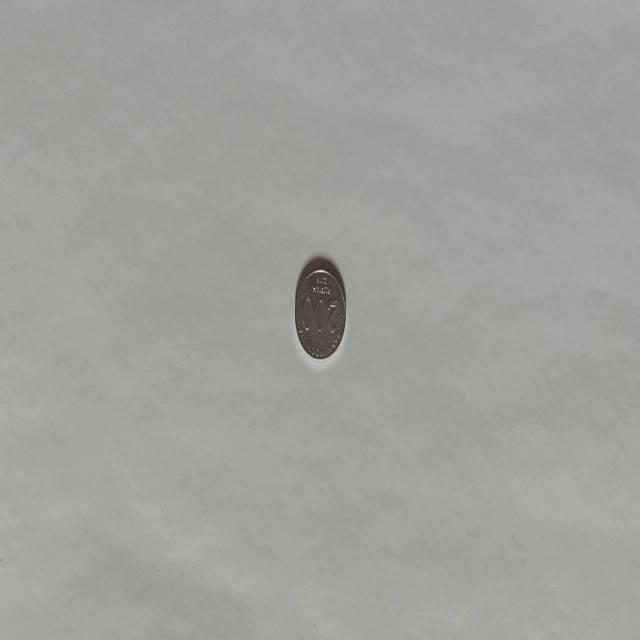dua ratus rupiah: (294, 262, 346, 360)
